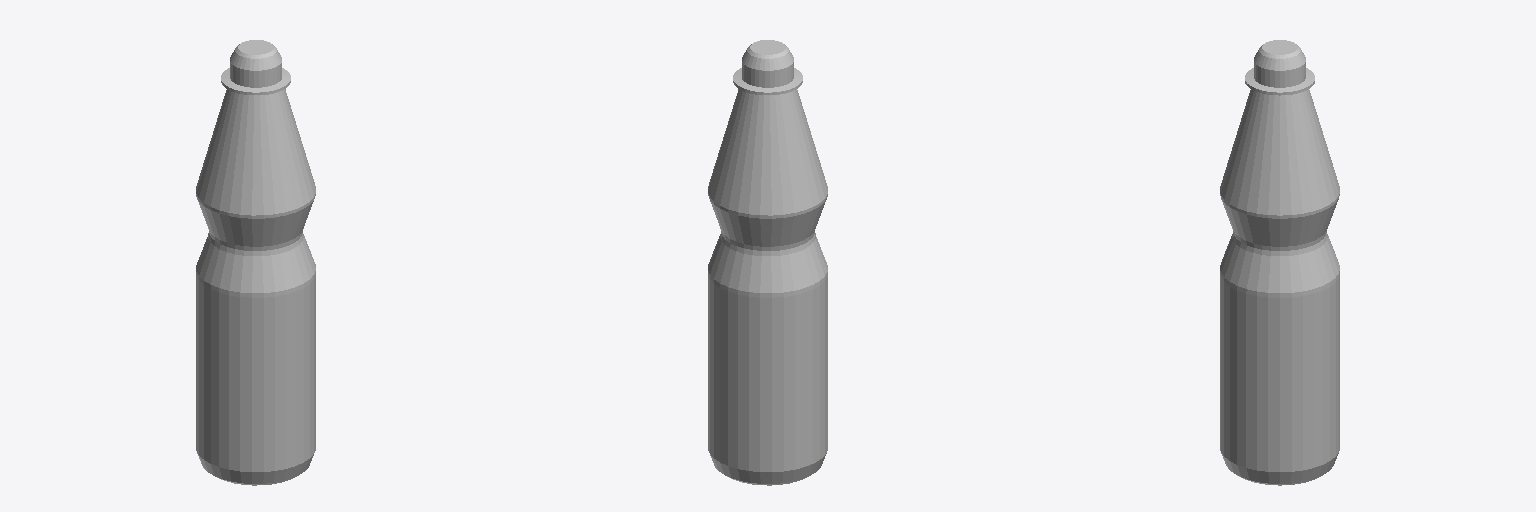
Rendered from flasche4.obj.
The picture shows the model from 3 angles: view 1: azimuth 30°, elevation 25°; view 2: azimuth 150°, elevation 25°; view 3: azimuth 270°, elevation 25°; orthographic projection.
Visible parts, largest first — view 1: Cylinder; view 2: Cylinder; view 3: Cylinder.
Part boxes in pixels (bbox=[...]): Cylinder: bbox=[196, 40, 315, 485]; Cylinder: bbox=[708, 40, 827, 485]; Cylinder: bbox=[1220, 40, 1339, 485].
Size of the model in its own units: 0.0797 by 0.304 by 0.0797.